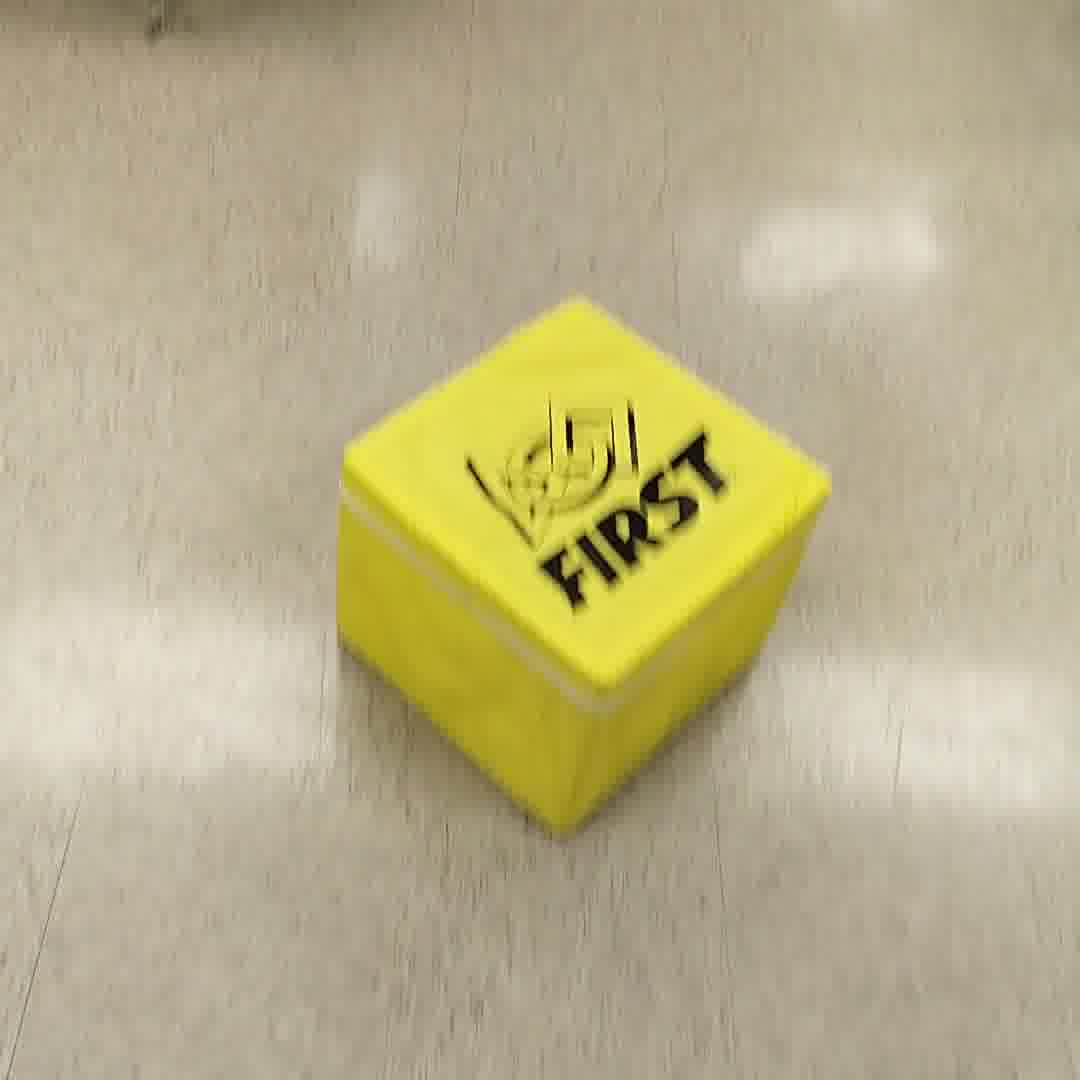box: (327, 295, 837, 856)
